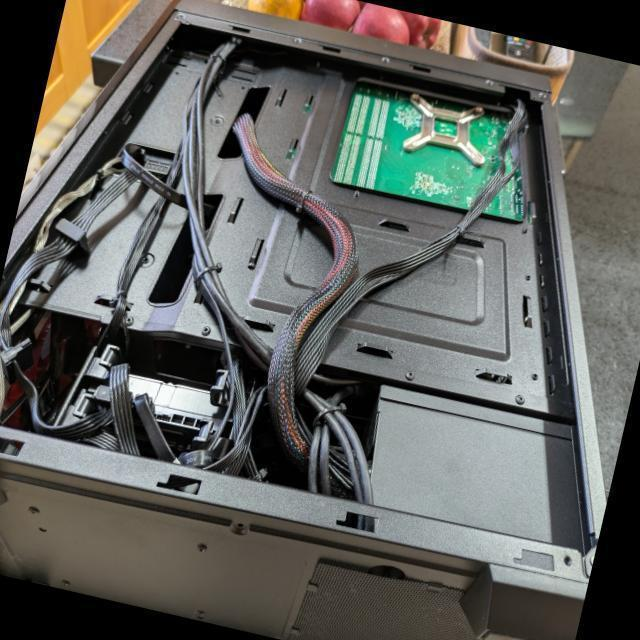DISK: (95, 364, 224, 436)
Mainboard: (329, 82, 541, 226)
PSU: (349, 385, 606, 553)
